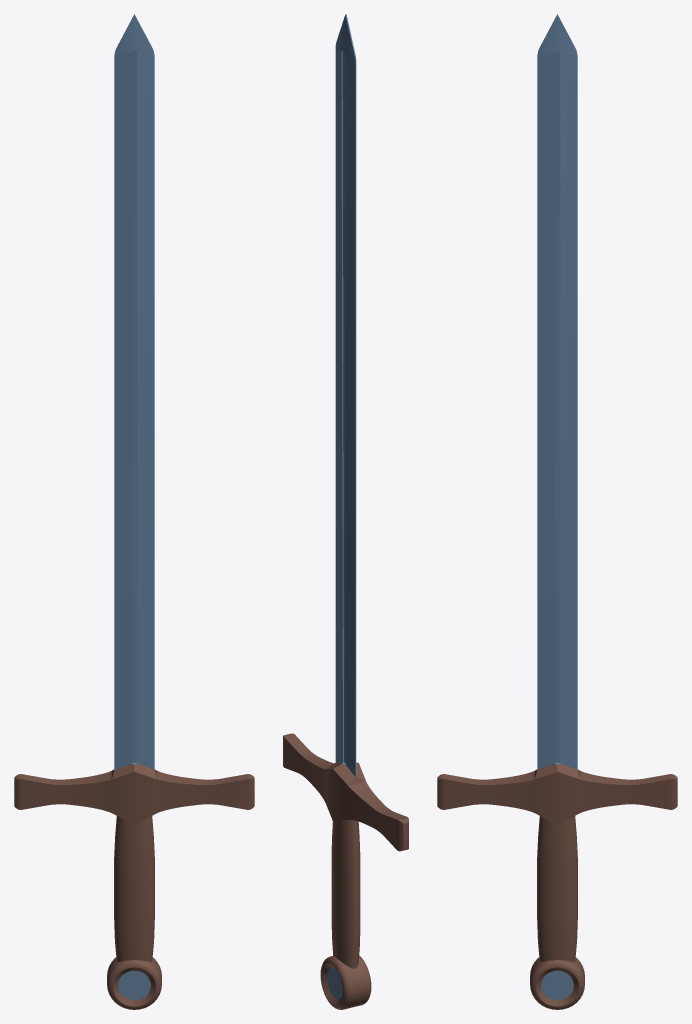
The model's file is Sword1.fbx.
3 views of the same model, side by side, from view 1: azimuth 90°, elevation 25°; view 2: azimuth 210°, elevation 25°; view 3: azimuth 270°, elevation 25° (orthographic).
Parts seen in each view (by area): view 1: Cube; view 2: Cube; view 3: Cube.
Part boxes in pixels (box(x1,y1,x2,y2)): Cube: box(14, 14, 254, 1009); Cube: box(283, 14, 408, 1009); Cube: box(437, 14, 677, 1009).
Bounding box in the file's own units: 3.39 × 115 × 25.42.
